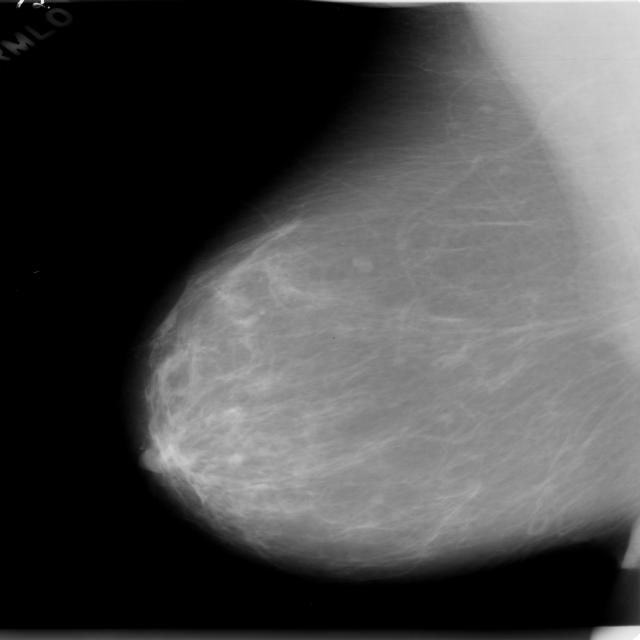normal: (116, 0, 640, 604)
